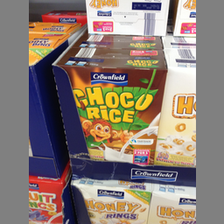cereal: (55, 47, 166, 164)
